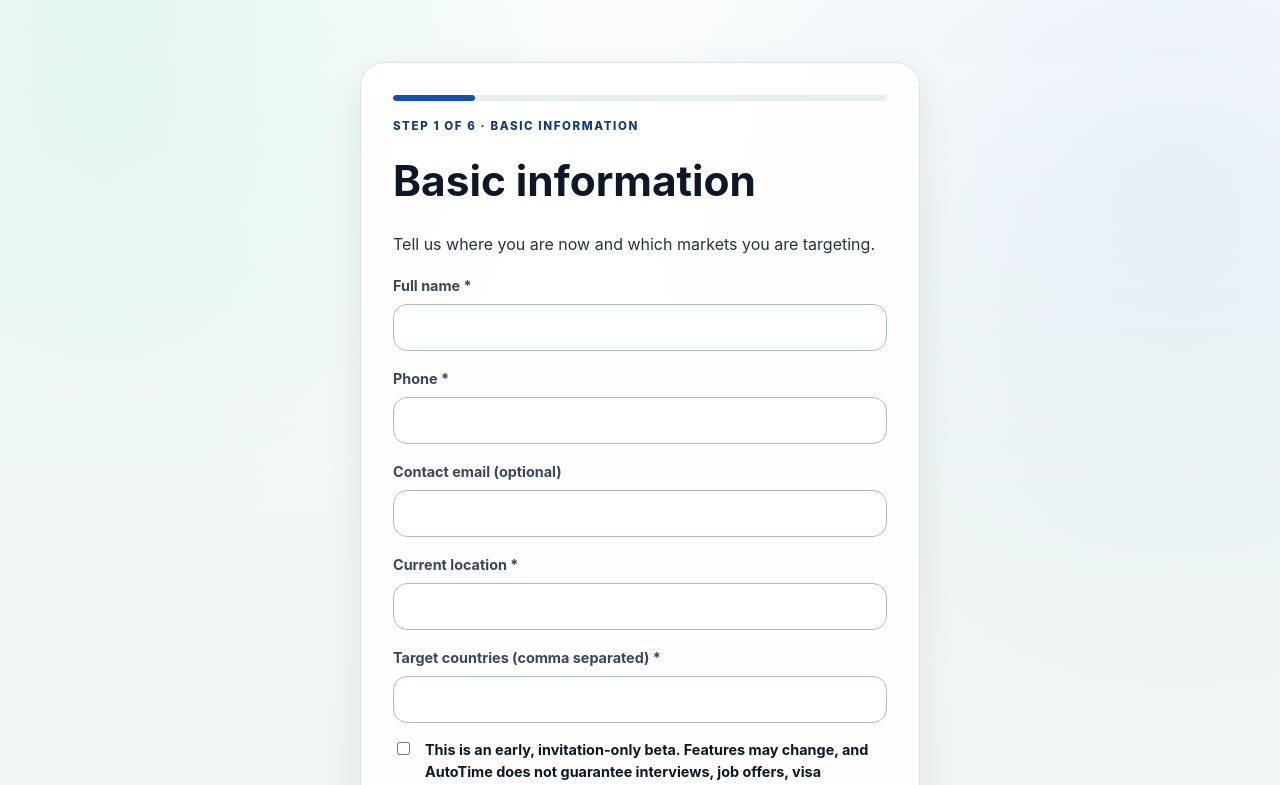
Test case: OnboardingWizard - step 0 (basic information + beta terms) › blocks continuing without accepting the beta terms, even with otherwise valid fields
This screenshot has width=1280, height=785.
Type "Jane Doe" into the field labelled "Full name *". click: [640, 328]
box: x1=393 y1=304 x2=887 y2=351
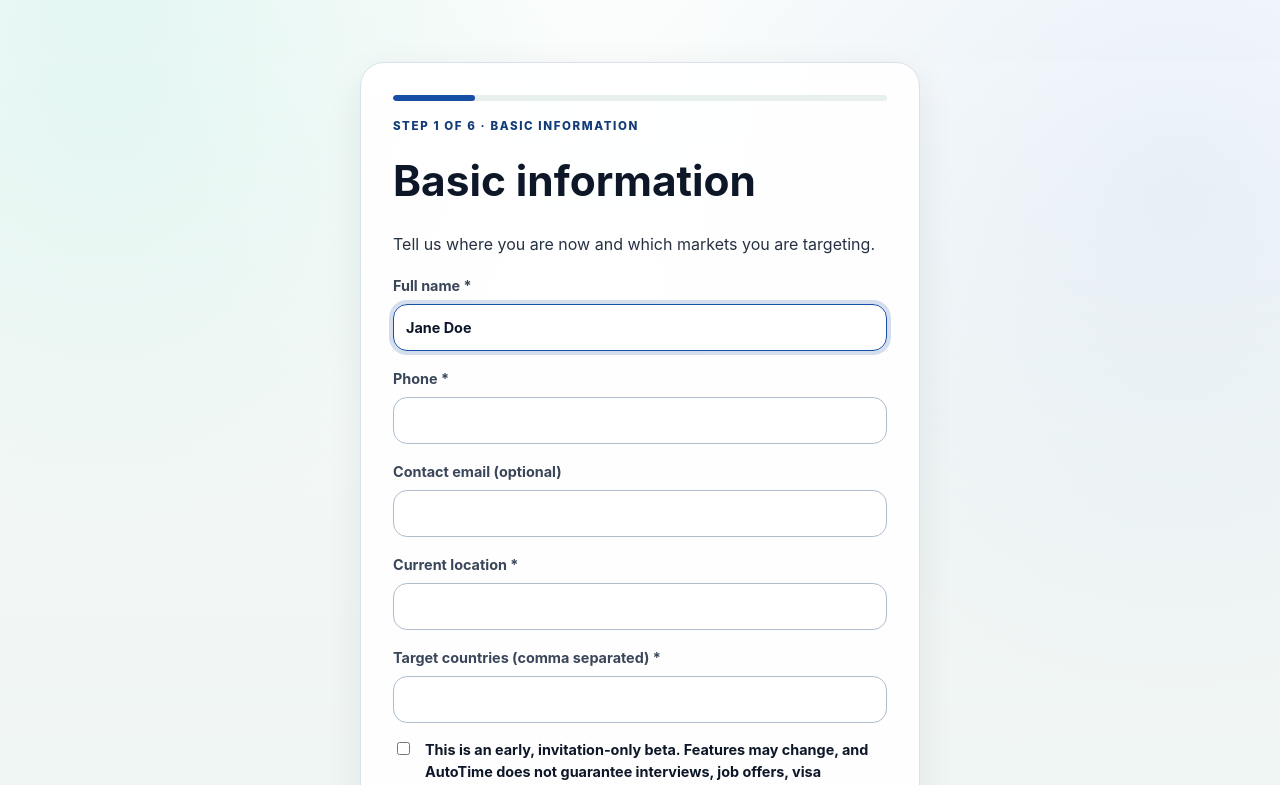
Type "+44 7700 900000" into the field labelled "Phone *". click: [640, 421]
box: x1=393 y1=397 x2=887 y2=444
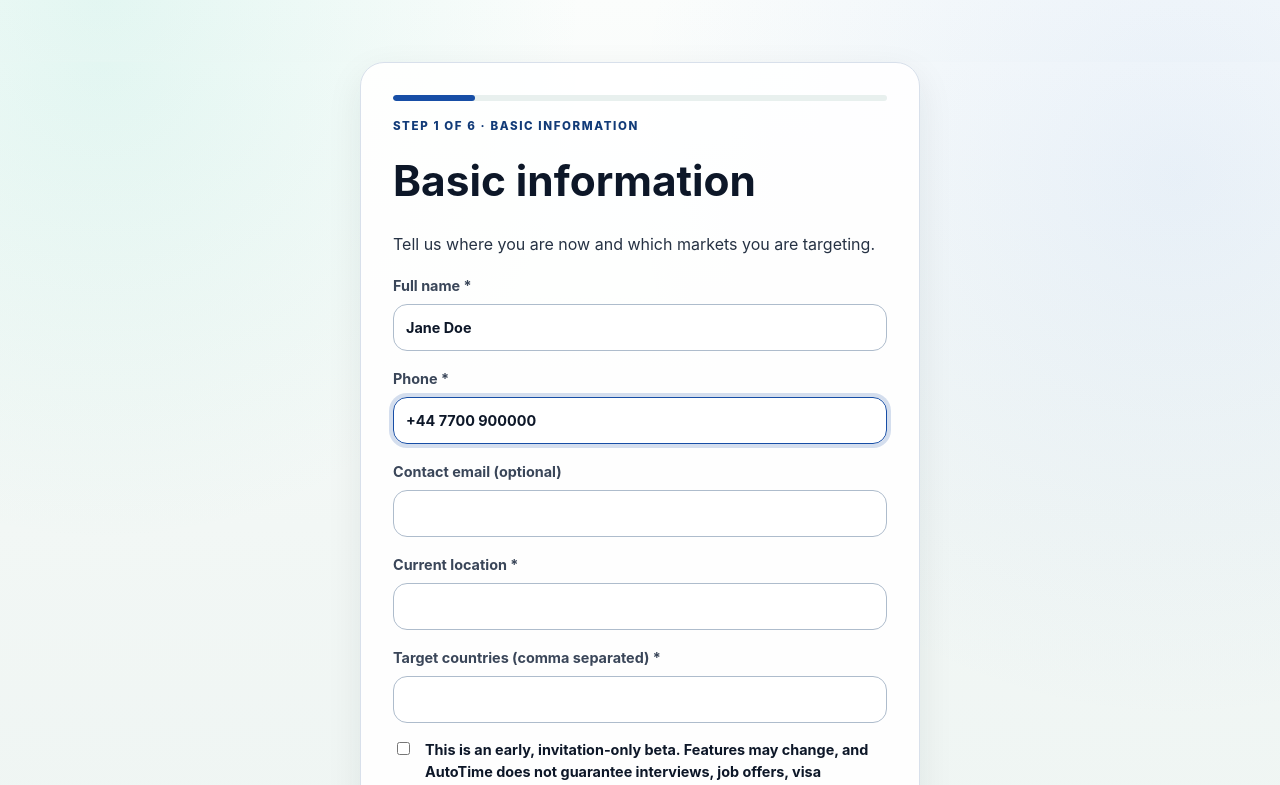
Type "London" into the field labelled "Current location *". click: [640, 607]
box: x1=393 y1=583 x2=887 y2=630
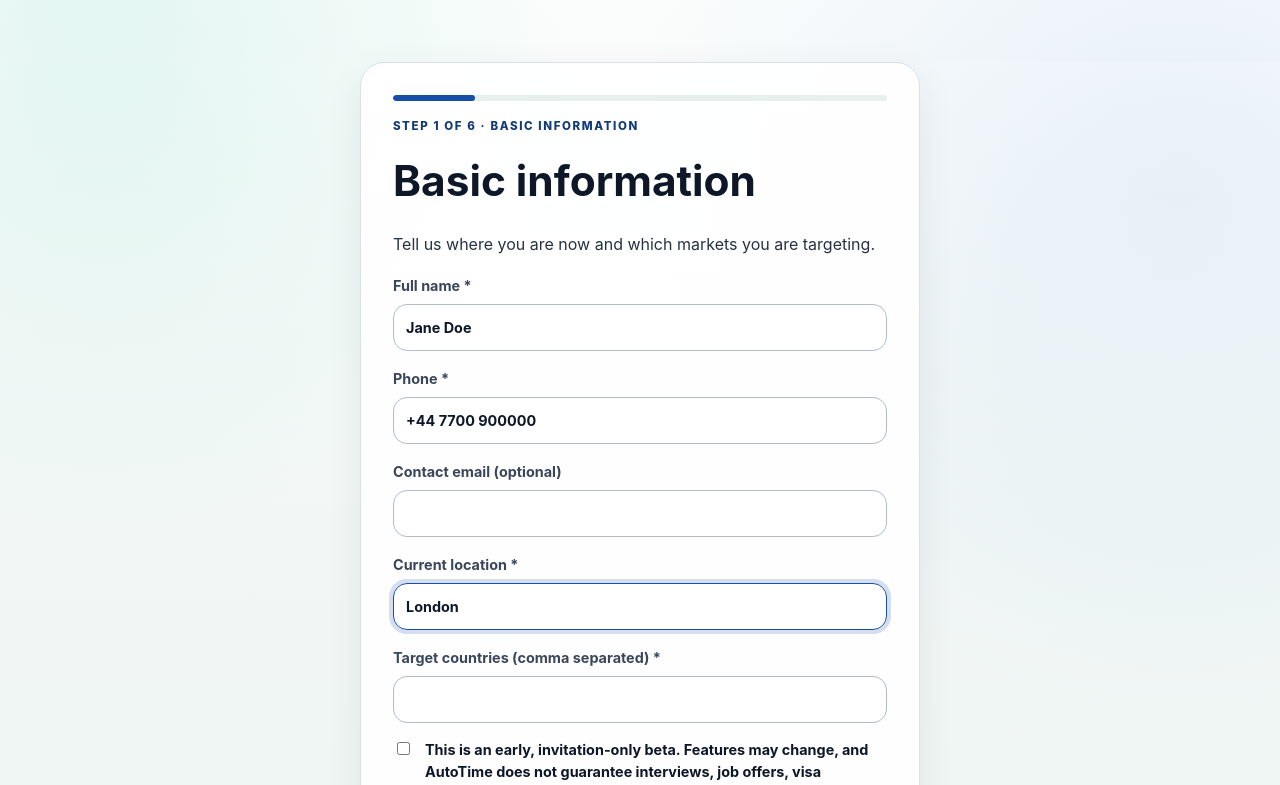
Type "Germany, Ireland" into the field labelled "Target countries (comma separated) *". click: [640, 700]
box: x1=393 y1=676 x2=887 y2=723
(page scrolled)
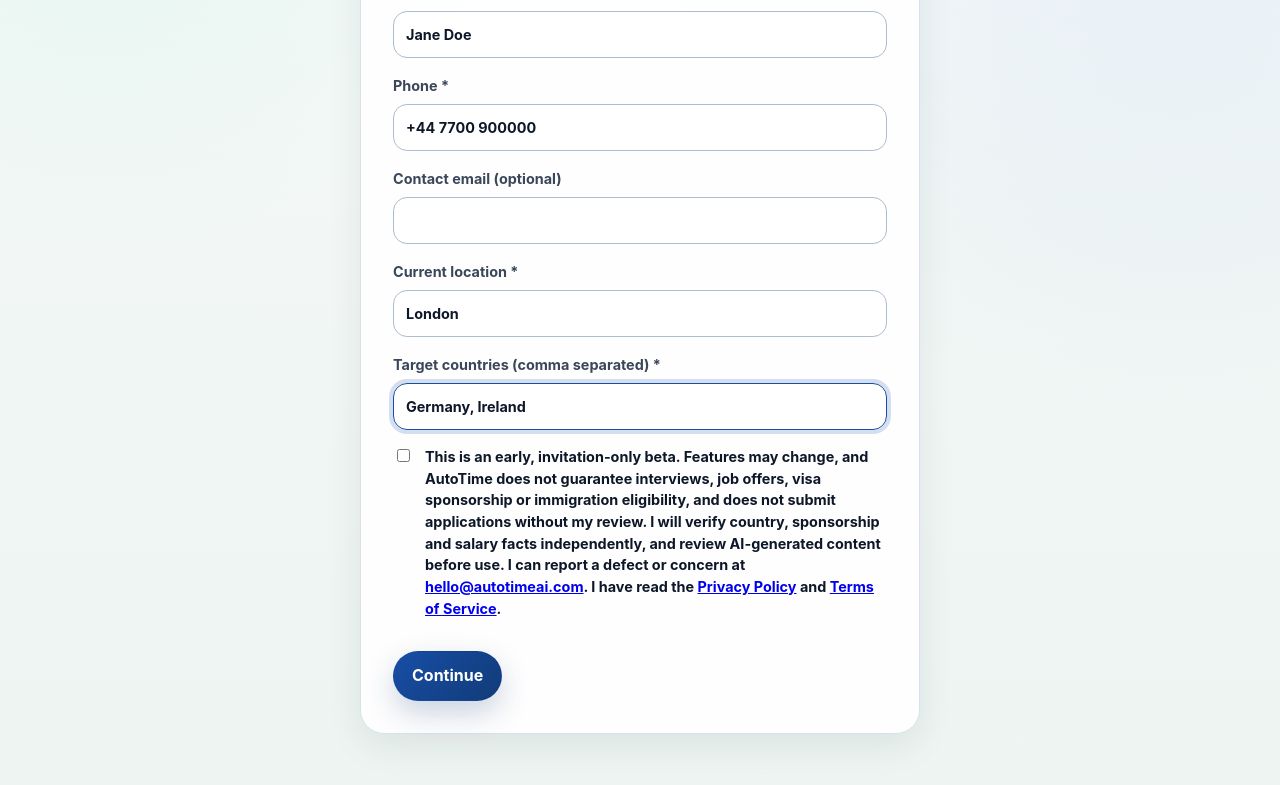
Check: the checkbox is not checked, box x1=397 y1=449 x2=410 y2=462
Click the button "Continue". click: [448, 676]
box: x1=393 y1=651 x2=502 y2=701
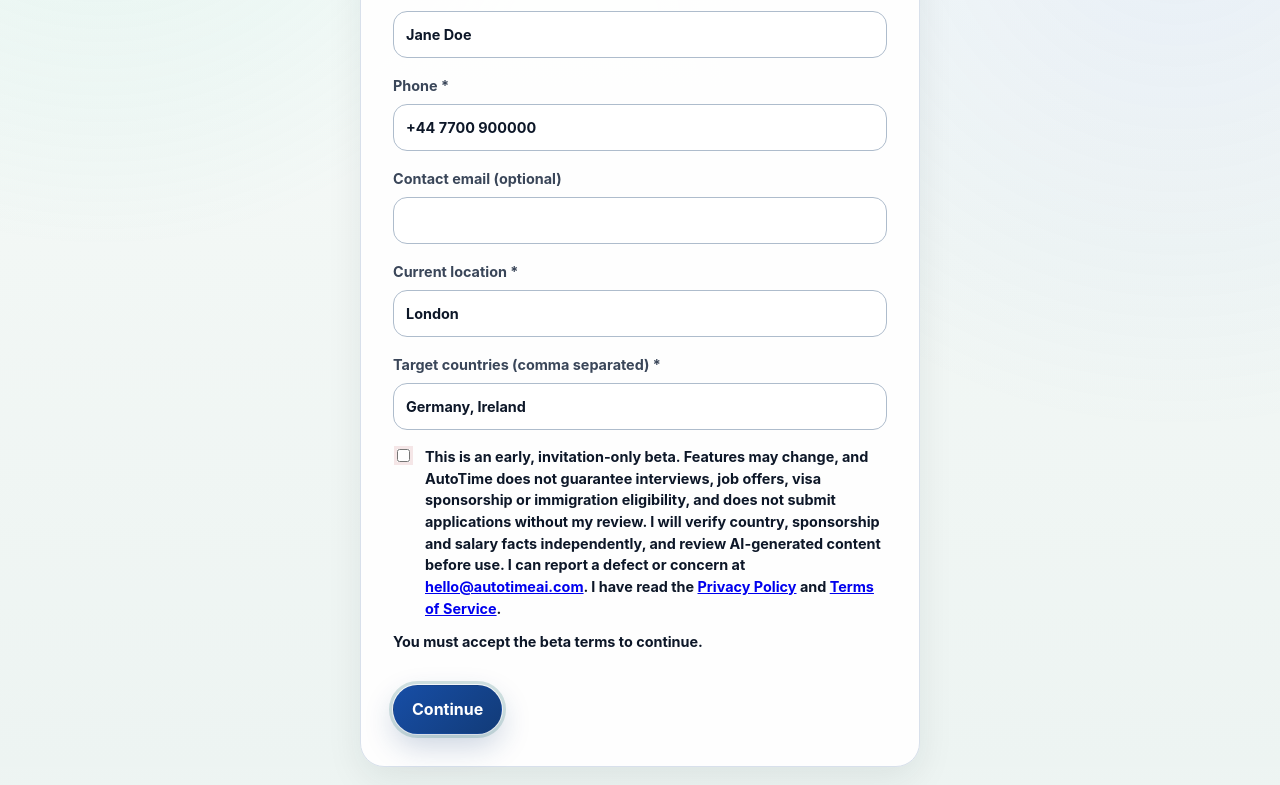
Check: the text "You must accept the beta terms to continue." is shown, box x1=393 y1=633 x2=703 y2=650
